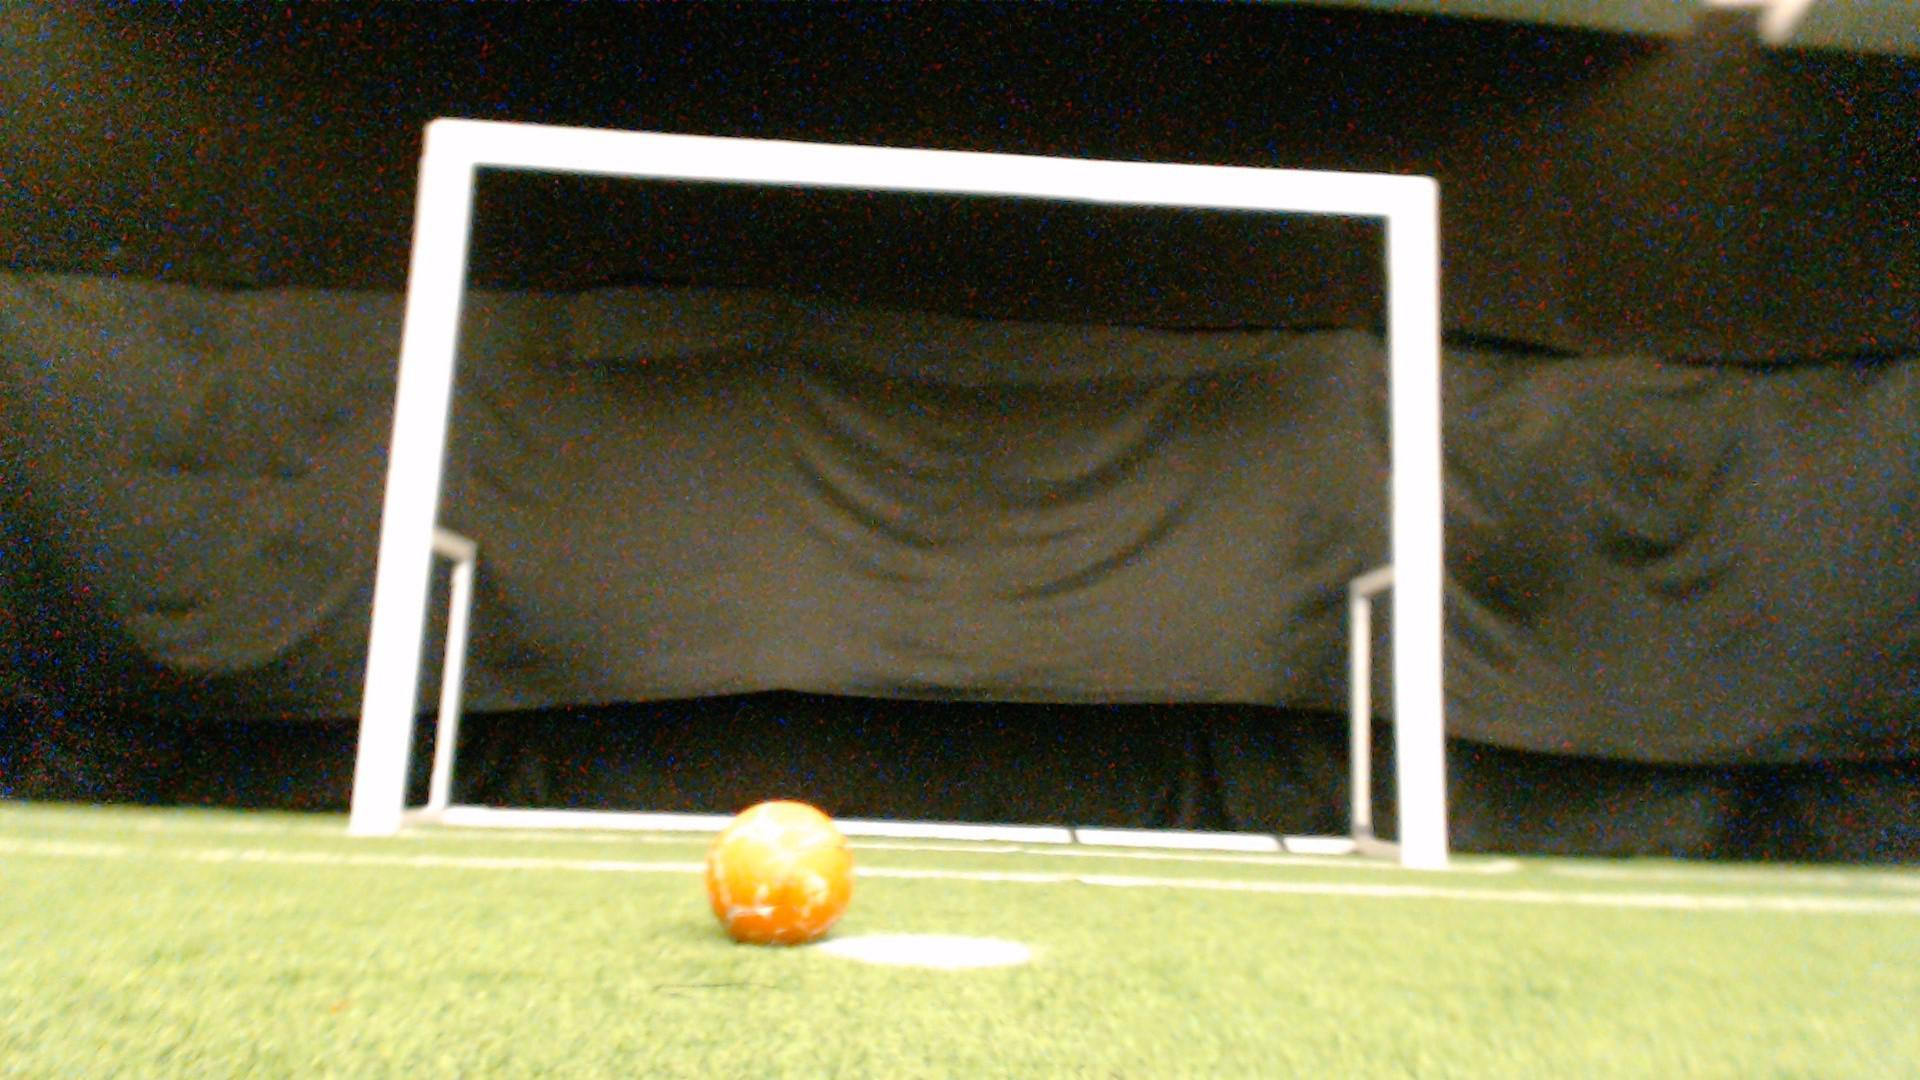bola: (702, 782, 872, 951)
